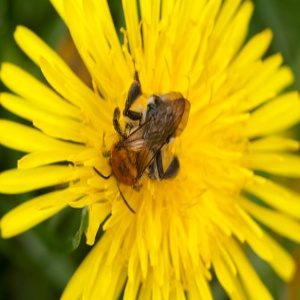bee: (108, 77, 191, 212)
